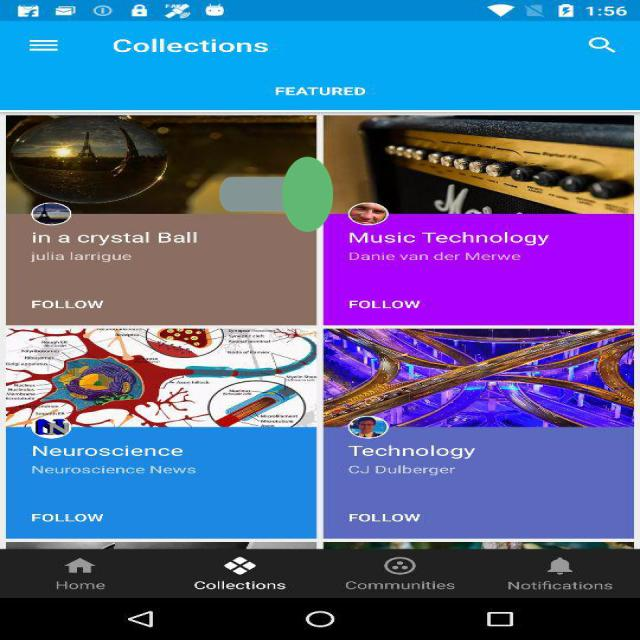social proof: (219, 111, 333, 278)
